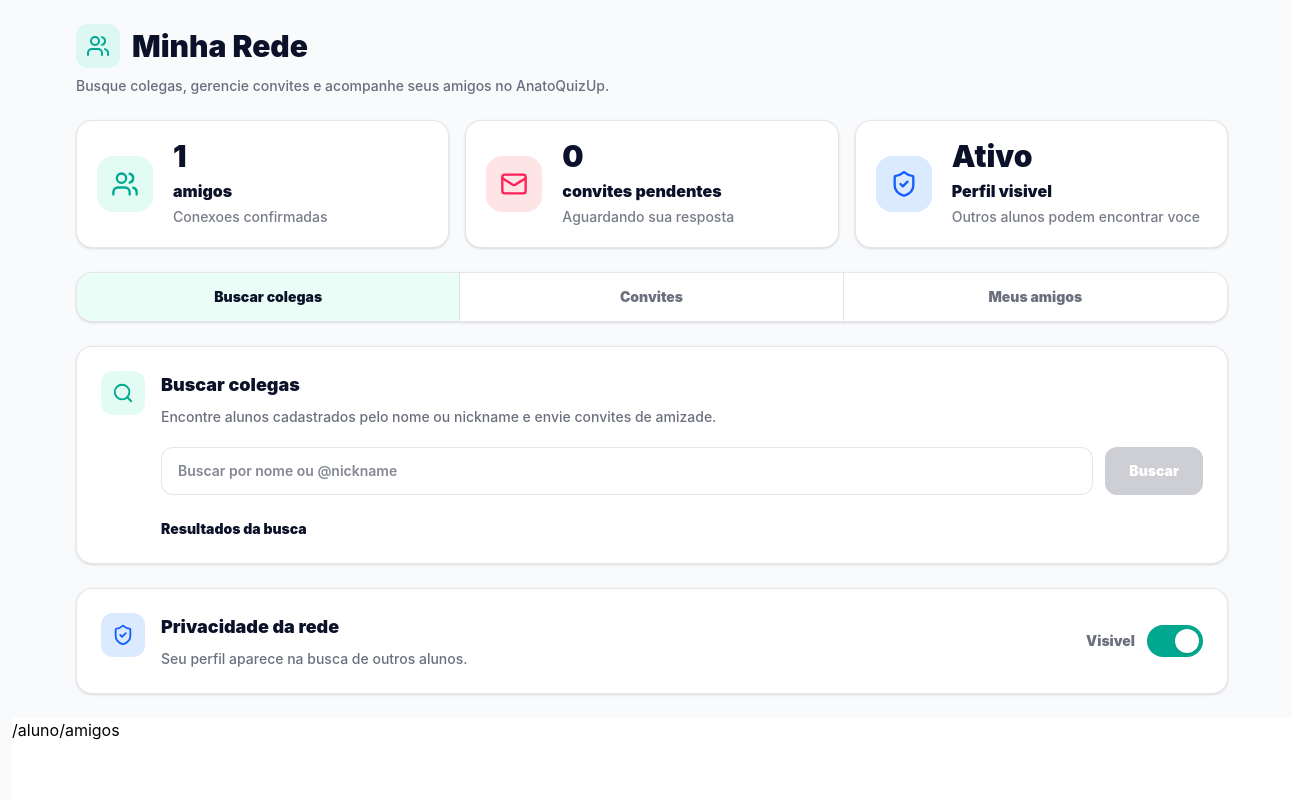
Scenario: AmigosPage › exibe mensagem padrão quando a busca falha sem Error
Step 1. Type "Rafael" into the field named "Buscar por nome ou nickname" → (627,471), box 161,447 -> 1093,495
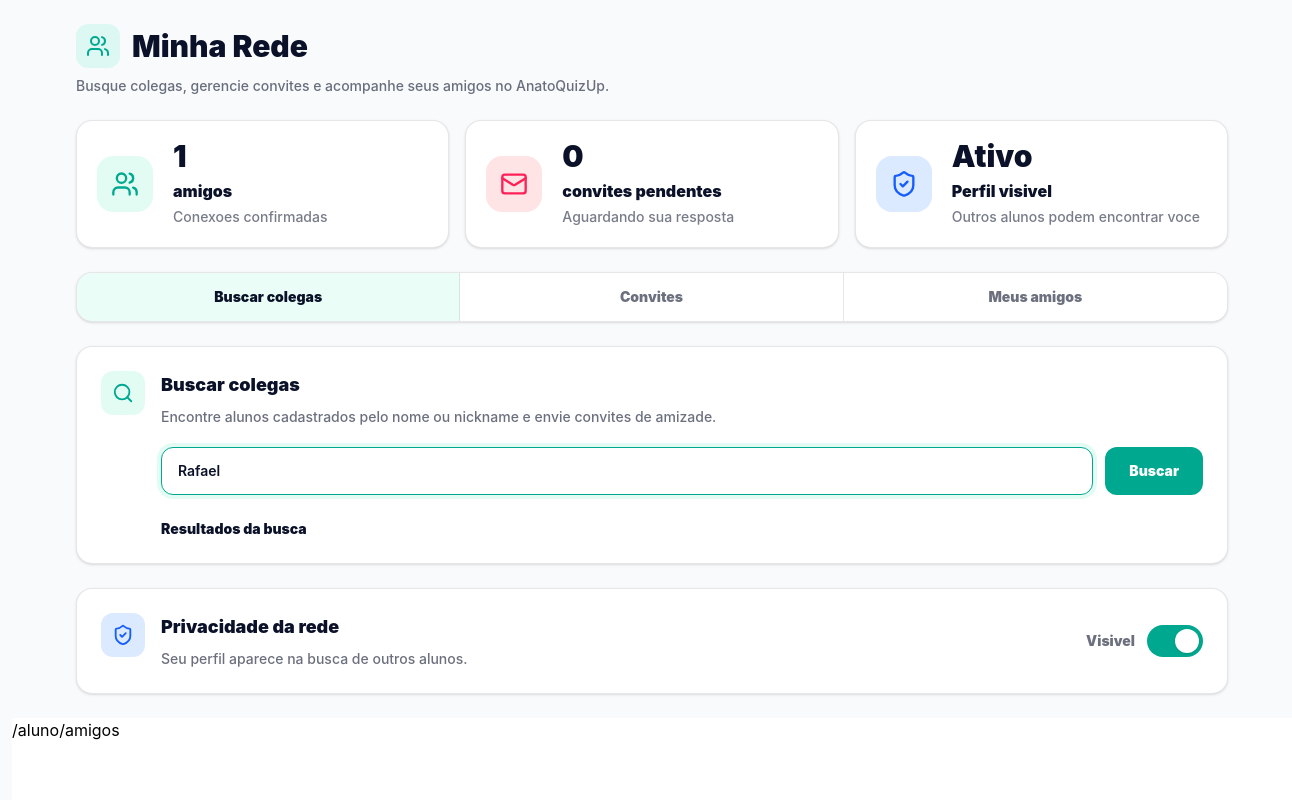
Step 2. Click the button "Buscar" → (1154,471), box 1105,447 -> 1203,495
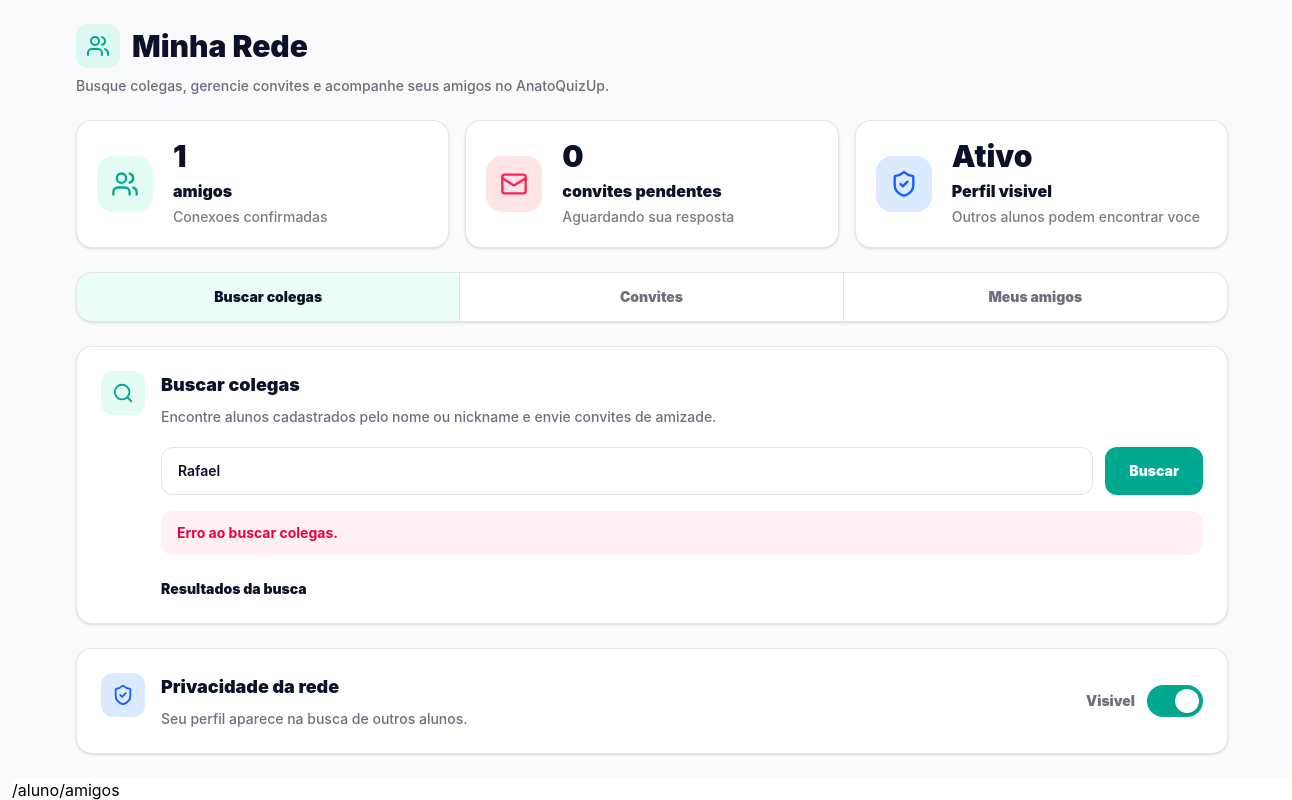
Expected: the text "Erro ao buscar colegas." is shown, 161,511 -> 1203,555
